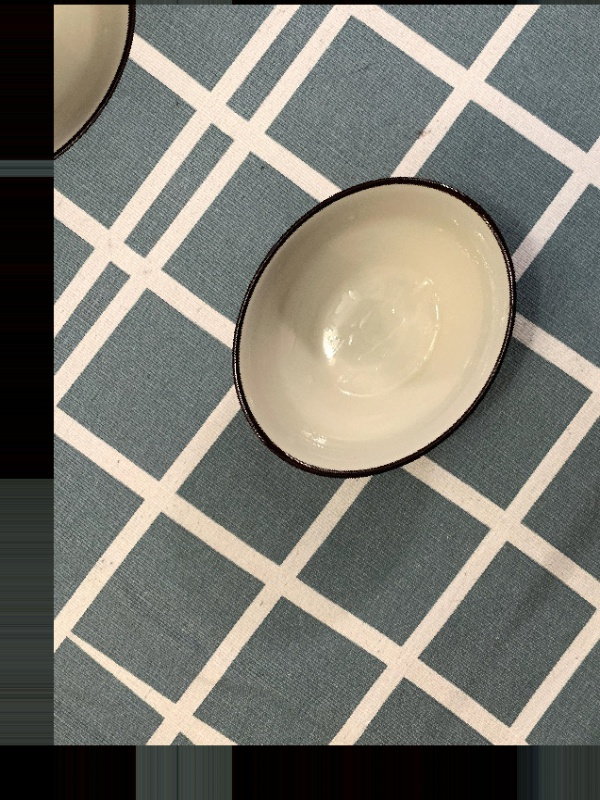bowl_small: (165, 107, 587, 546)
